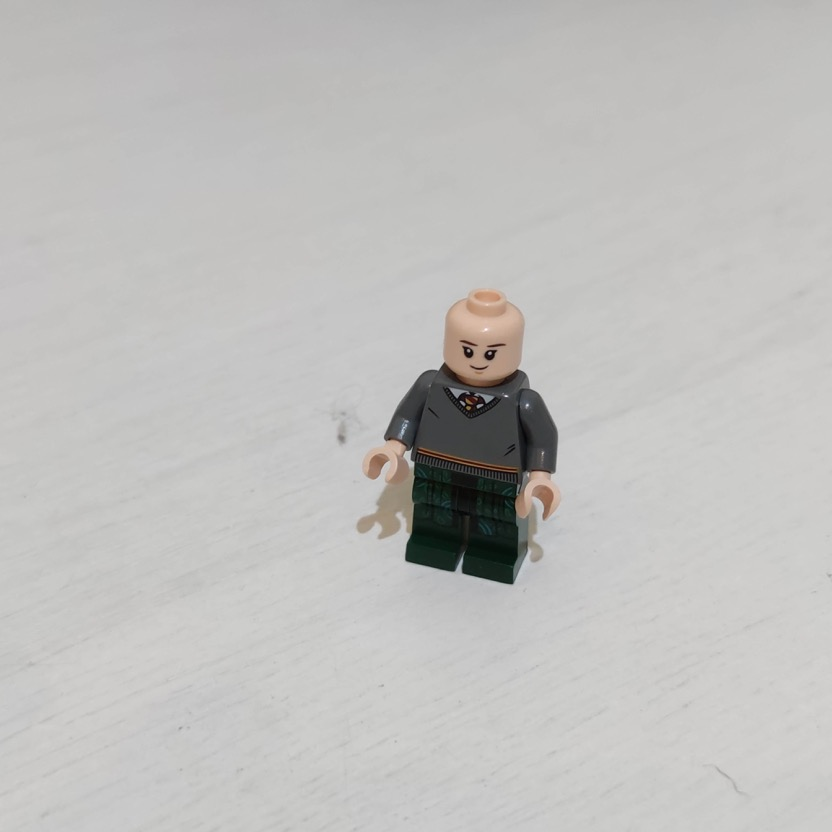lego: (363, 289, 560, 591)
